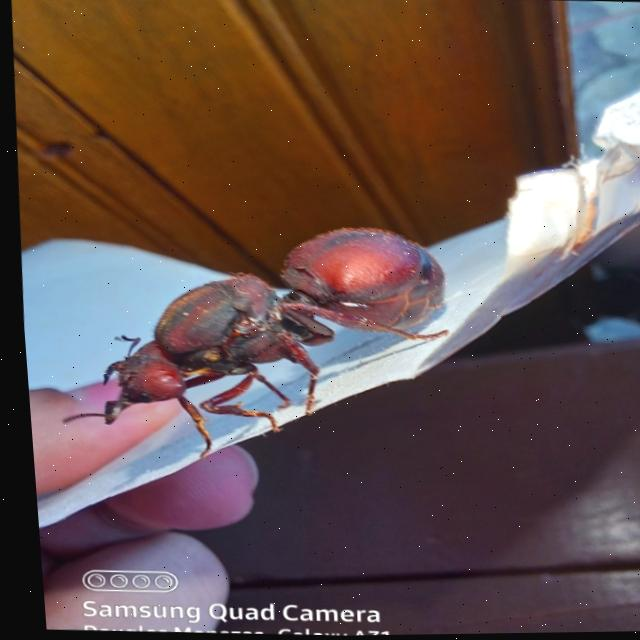Alive-Female-Dealate: (41, 216, 456, 470)
